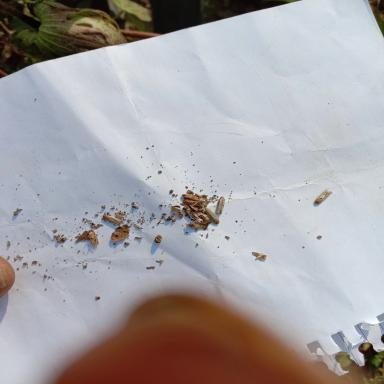pbw: (181, 193, 214, 203), (182, 206, 202, 222), (314, 188, 333, 204), (204, 207, 220, 224), (86, 228, 100, 247), (194, 210, 210, 222), (183, 198, 207, 206), (102, 215, 121, 225), (217, 196, 226, 215)
